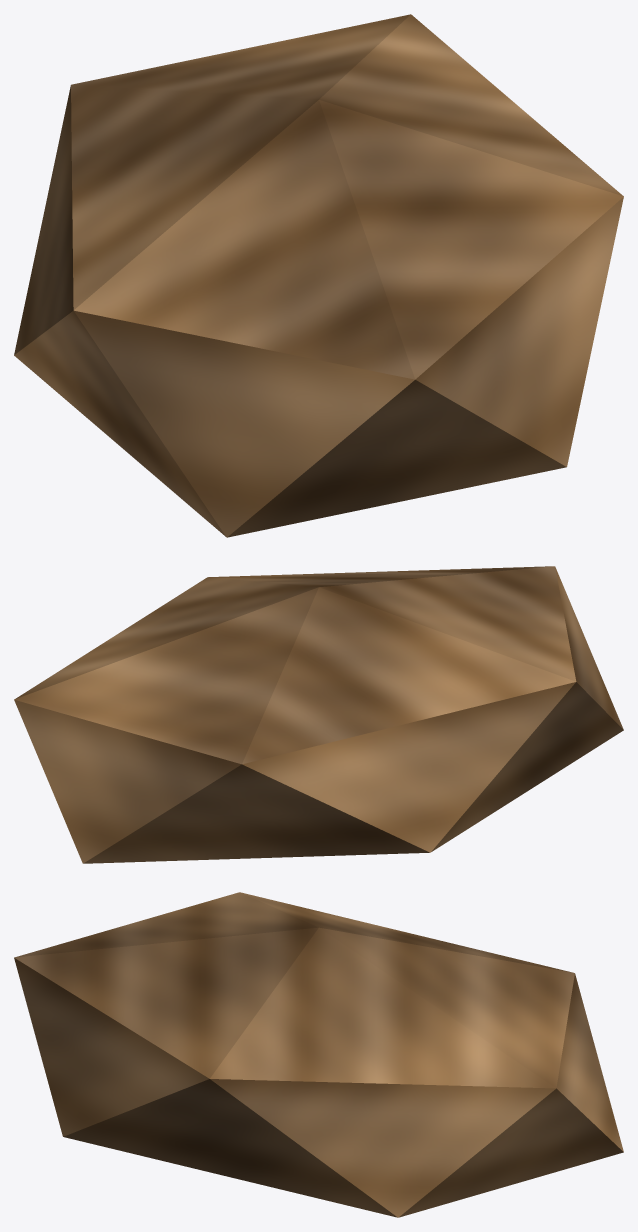
Rendered from 2028_sandstone_talus_23.dae.
3 renders of one model, top to bottom at view 1: azimuth 30°, elevation 25°; view 2: azimuth 150°, elevation 25°; view 3: azimuth 270°, elevation 25°, orthographic. The views are drawn at different scales.
Visible parts, largest first — view 1: Node; view 2: Node; view 3: Node.
Boxes of the visible parts, bbox=[...] form: Node: bbox=[14, 14, 623, 537]; Node: bbox=[14, 566, 623, 863]; Node: bbox=[14, 892, 623, 1217].
Size of the model in its own units: 0.8589 by 1.05 by 0.4818.
Materials: 1 (1 with a texture image).
